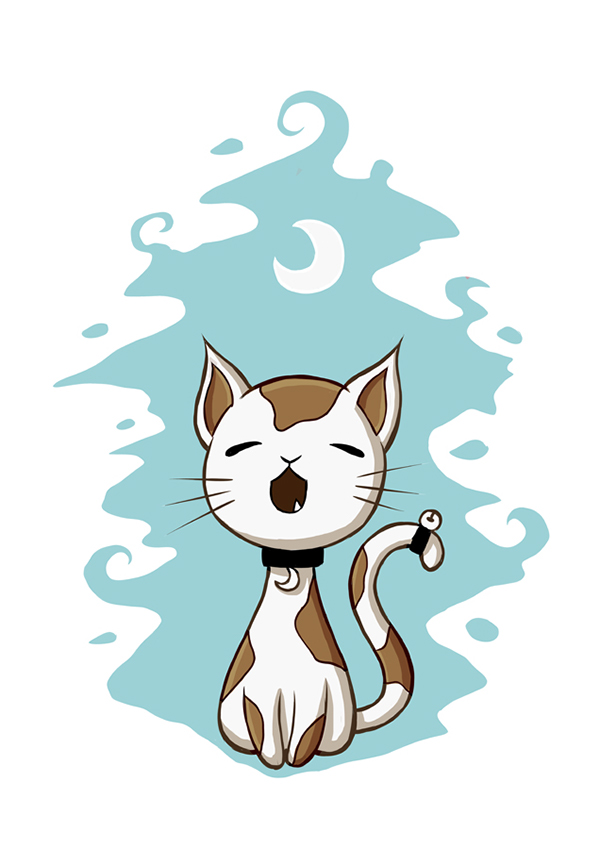cat: (166, 331, 451, 777)
